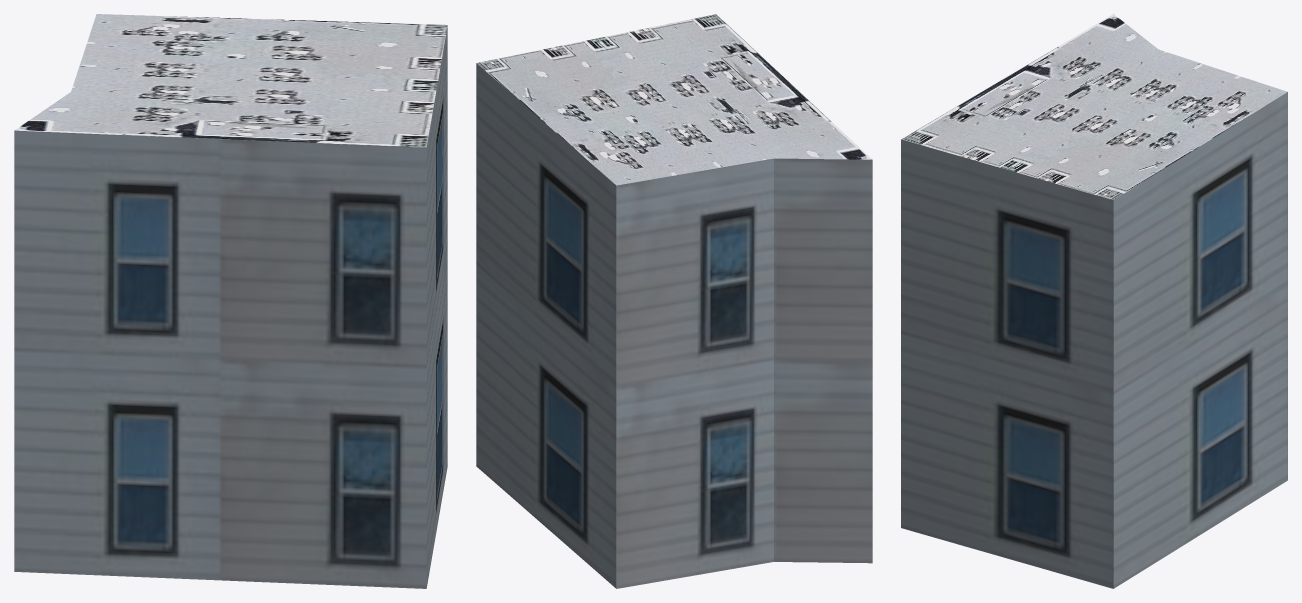
File: ResTex__5037.fbx
3 renders of one model, left to right at view 1: azimuth 30°, elevation 25°; view 2: azimuth 150°, elevation 25°; view 3: azimuth 270°, elevation 25°, orthographic. The views are drawn at different scales.
Visible parts, largest first — view 1: CityEngineMaterial_18_m, CityEngineMaterial_m; view 2: CityEngineMaterial_18_m, CityEngineMaterial_m; view 3: CityEngineMaterial_18_m, CityEngineMaterial_m.
Boxes of the visible parts, x1,y1,x2,y2 form: CityEngineMaterial_18_m: [14, 26, 447, 588]; CityEngineMaterial_m: [14, 14, 447, 147]; CityEngineMaterial_18_m: [476, 63, 872, 588]; CityEngineMaterial_m: [476, 14, 871, 185]; CityEngineMaterial_18_m: [901, 92, 1287, 588]; CityEngineMaterial_m: [901, 14, 1287, 200].
Size of the model in its own units: 6.17 by 6 by 5.41.
2 materials, 2 textured.
